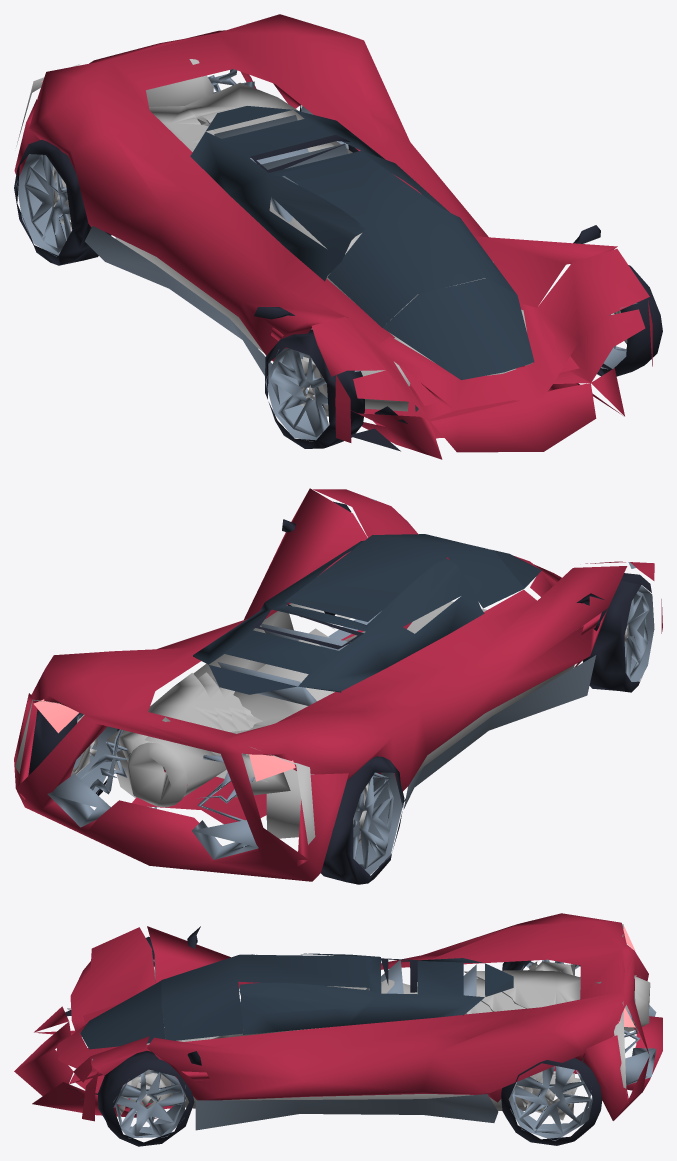
The model's file is royal.glb.
3 renders of one model, top to bottom at view 1: azimuth 30°, elevation 25°; view 2: azimuth 150°, elevation 25°; view 3: azimuth 270°, elevation 25°, orthographic. The views are drawn at different scales.
Parts seen in each view (by area): view 1: royal; view 2: royal; view 3: royal.
Boxes of the visible parts, box(x1,y1,x2,y2) form: royal: box(14, 14, 662, 459); royal: box(14, 488, 662, 884); royal: box(14, 913, 662, 1146).
Bounding box in the file's own units: 1.19 × 0.4983 × 2.38.
